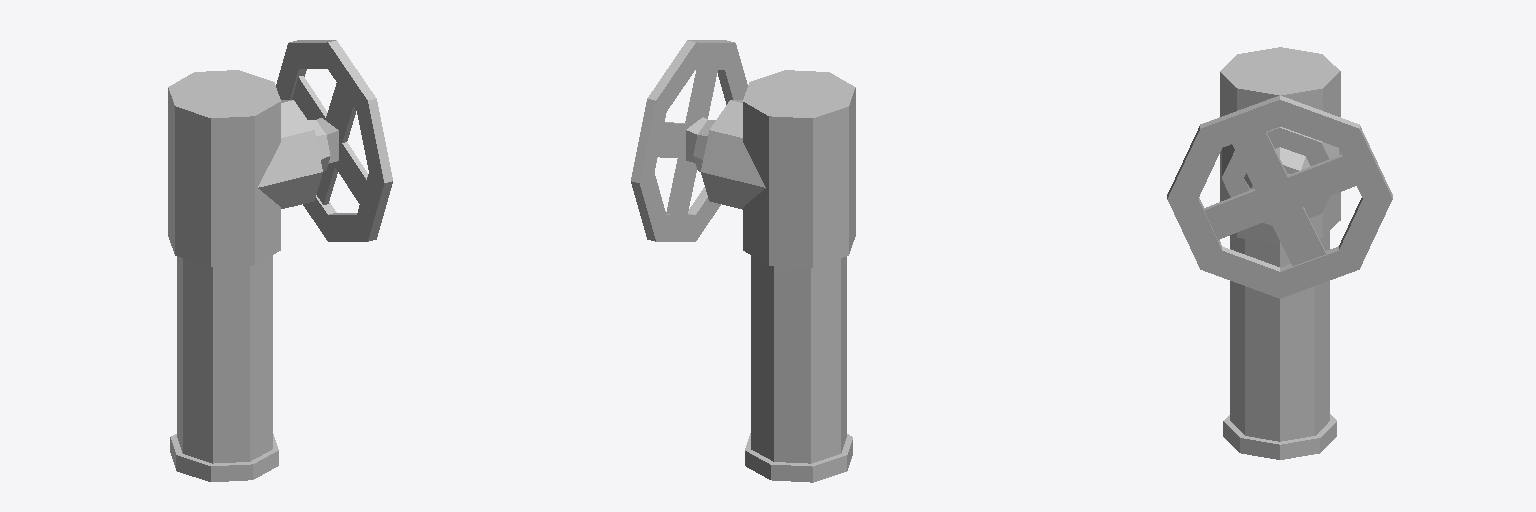
The model's file is sw_pipe.obj.
The picture shows the model from 3 angles: view 1: azimuth 30°, elevation 25°; view 2: azimuth 150°, elevation 25°; view 3: azimuth 270°, elevation 25°; orthographic projection.
Parts seen in each view (by area): view 1: sw_pipe; view 2: sw_pipe; view 3: sw_pipe.
Part boxes in pixels (bbox=[...]): sw_pipe: bbox=[168, 40, 392, 481]; sw_pipe: bbox=[631, 40, 855, 482]; sw_pipe: bbox=[1167, 47, 1392, 459].
Size of the model in its own units: 0.6805 by 1.57 by 0.8205.